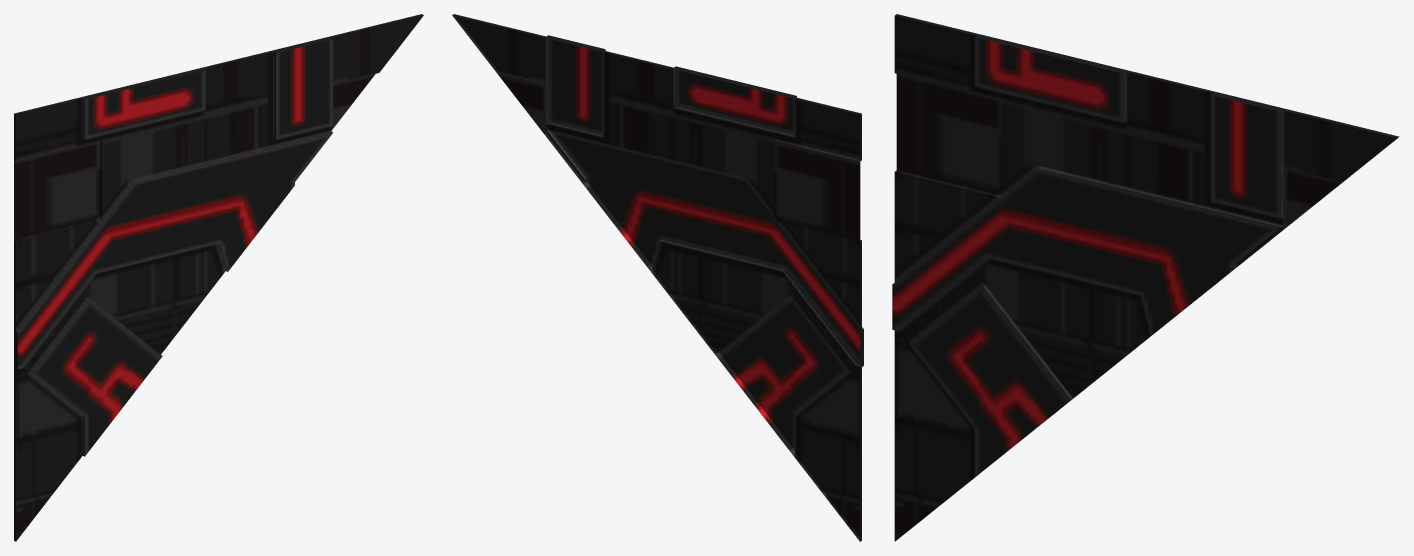
Rendered from reac2_1slice45lh_up.fbx.
The picture shows the model from 3 angles, left to right: view 1: azimuth 30°, elevation 25°; view 2: azimuth 150°, elevation 25°; view 3: azimuth 330°, elevation 25°; orthographic projection. The views are drawn at different scales.
Parts seen in each view (by area): view 1: reac2_1_mesh; view 2: reac2_1_mesh; view 3: reac2_1_mesh.
Part boxes in pixels (left/top/right/bottom): reac2_1_mesh: left=14, top=14, right=423, bottom=541; reac2_1_mesh: left=452, top=14, right=863, bottom=541; reac2_1_mesh: left=892, top=14, right=1399, bottom=541.
Size of the model in its own units: 256 by 256 by 4.
